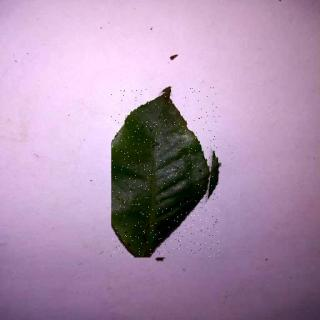Bird Eye Spot: (113, 89, 222, 259)
